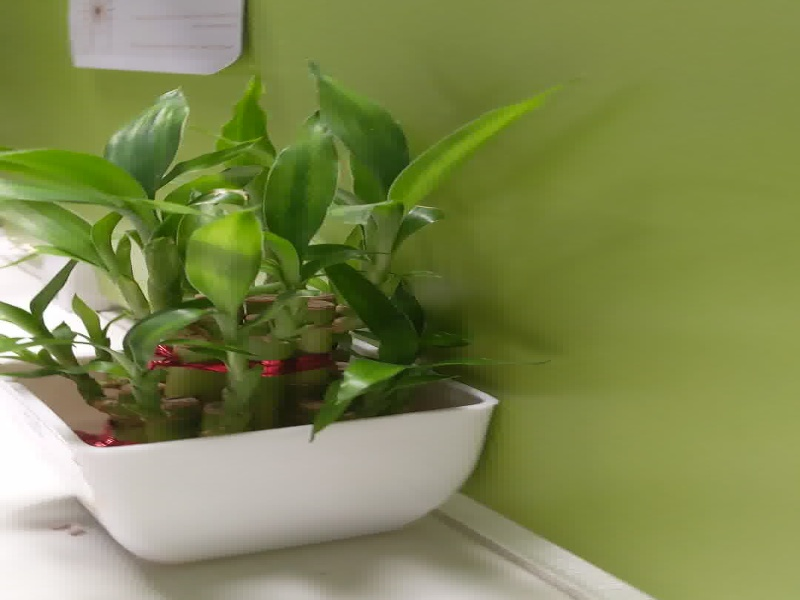bamboo: (2, 58, 585, 582)
